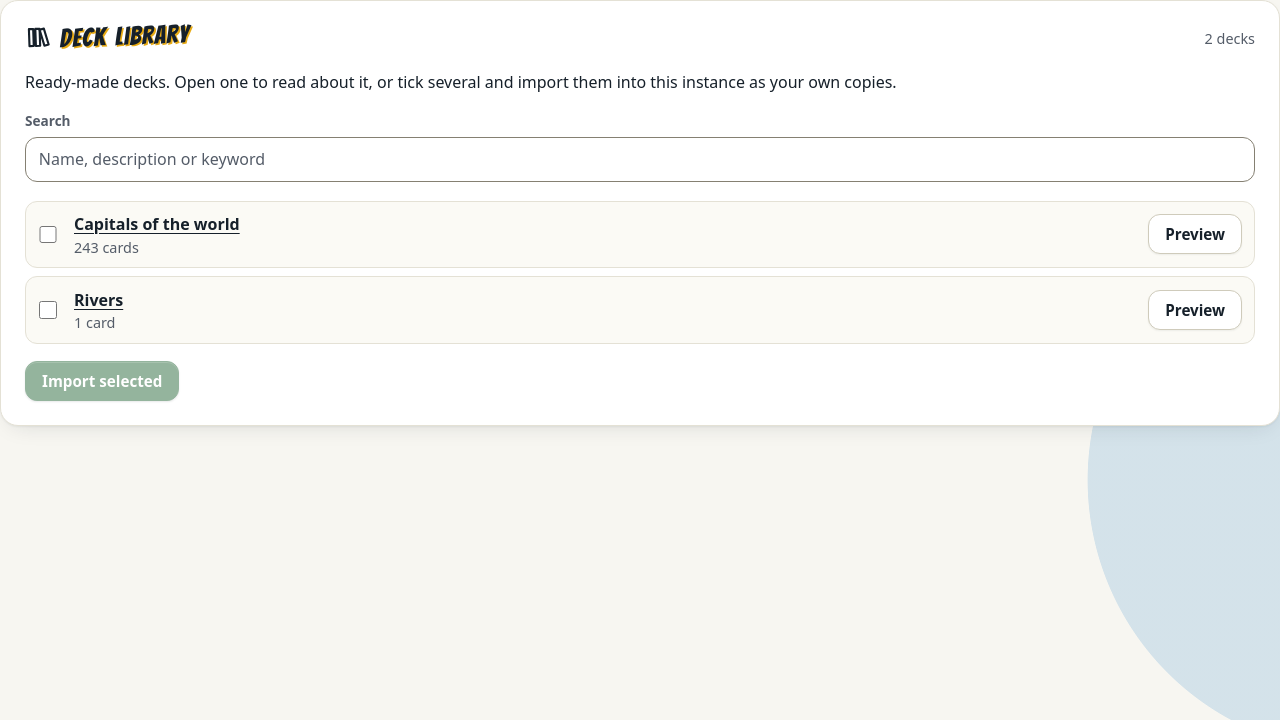
it: LibraryScreen › searches names, descriptions and keywords, in every language, and says when nothing matches
Type "WATER" into the search field labelled "Search" at (640, 159), box [25,137,1255,182]
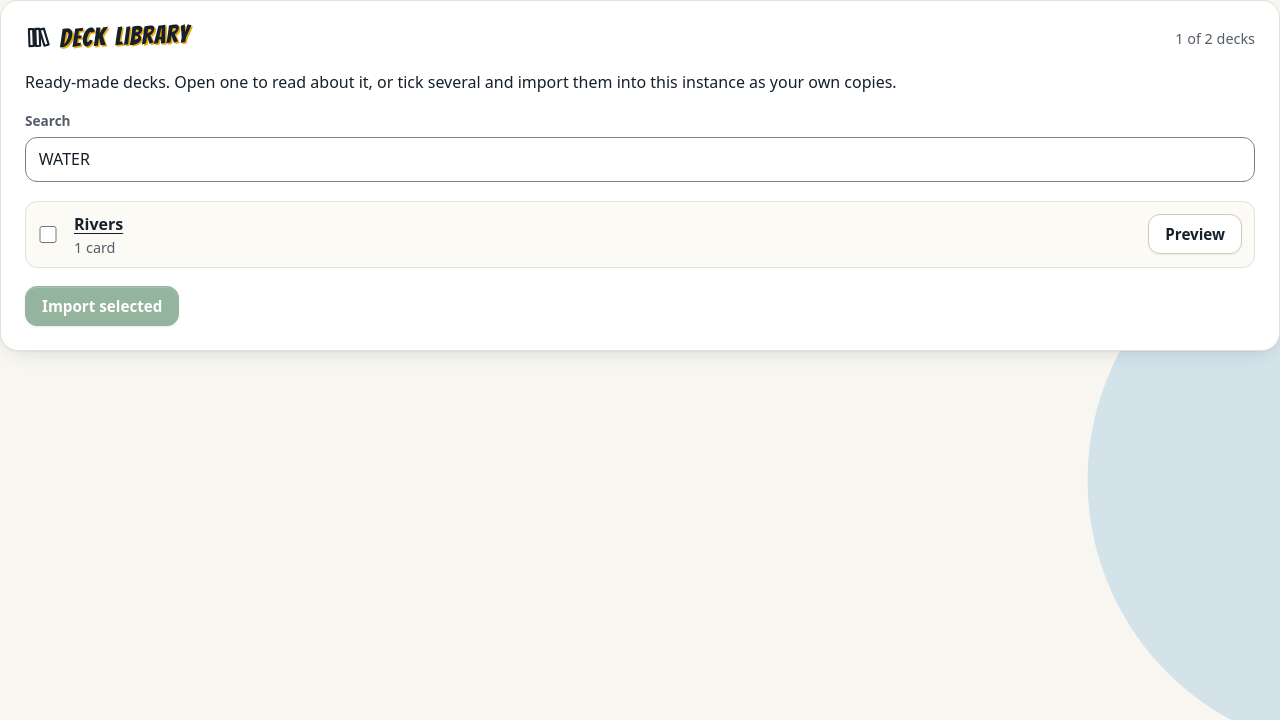
Expected: the checkbox named "Rivers" is shown, [39,226,57,243]
Expected: the link "Capitals of the world" is gone
Replace the text in the search field labelled "Search" with "vattendrag" at (640, 159), box [25,137,1255,182]
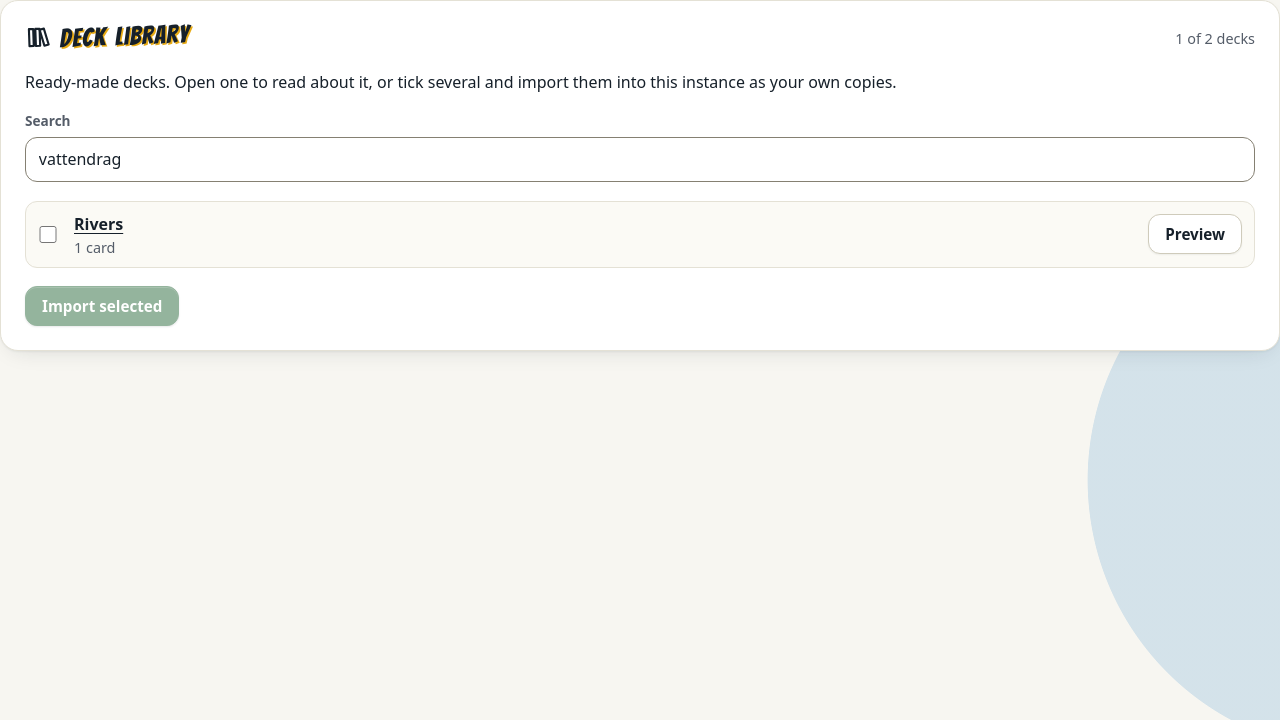
Expected: the checkbox named "Rivers" is shown, [39,226,57,243]
Expected: the link "Capitals of the world" is not shown
Replace the text in the search field labelled "Search" with "volcano" at (640, 159), box [25,137,1255,182]
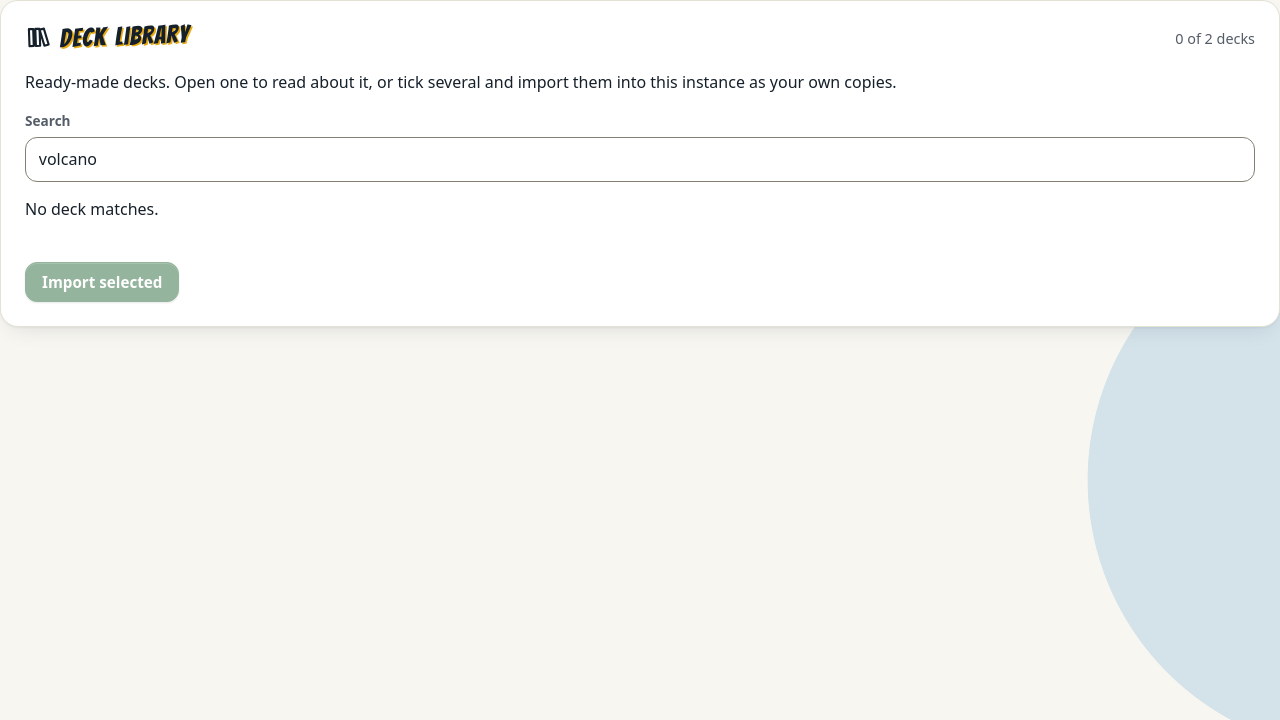
Expected: the text "No deck matches." is shown, [25,198,158,220]
